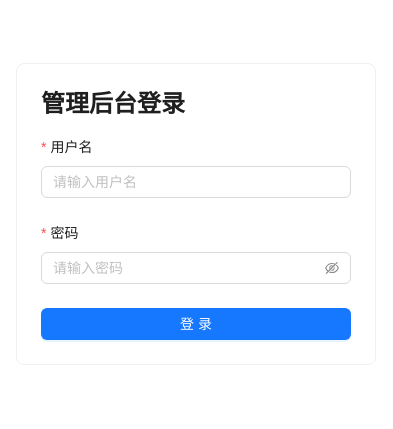
Scenario: LoginPage › shows error and request_id on failure
The width and height of the screenshot is (393, 429).
In the field with placeholder "请输入用户名": (196, 182) x1=41 y1=166 x2=351 y2=198, type "admin"
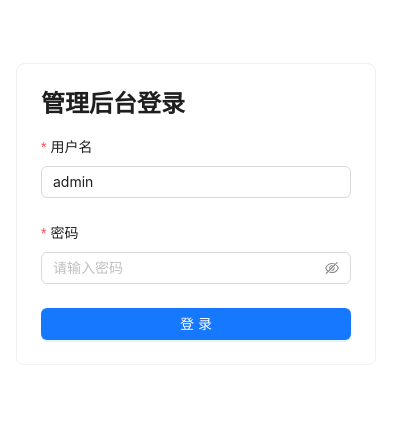
In the password field with placeholder "请输入密码": (187, 268) x1=53 y1=257 x2=321 y2=279, type "pw"
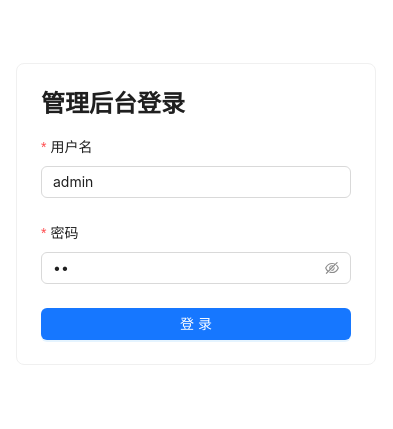
Click the button "登 录": (196, 324) x1=41 y1=308 x2=351 y2=340
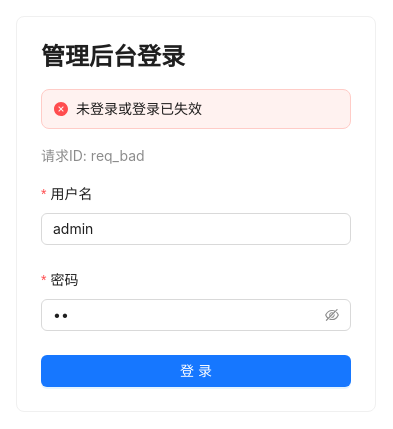
Now the text "请求ID: req_bad" is shown, box x1=41 y1=147 x2=145 y2=164
